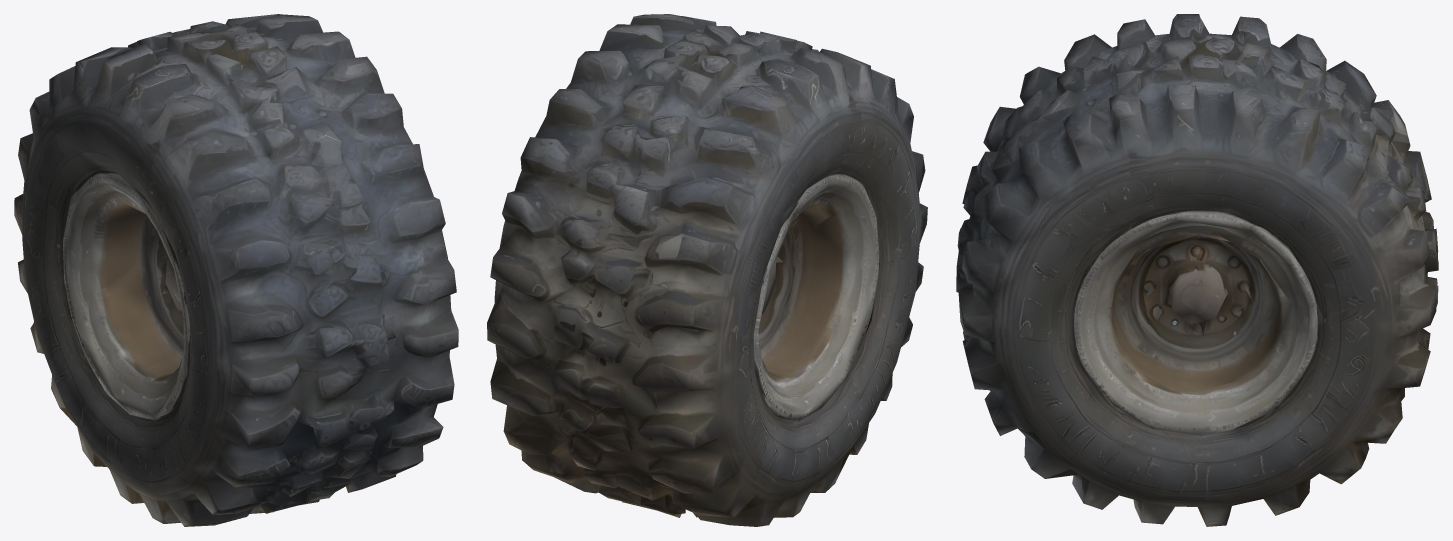
The model's file is wheel.glb.
3 renders of one model, left to right at view 1: azimuth 30°, elevation 25°; view 2: azimuth 150°, elevation 25°; view 3: azimuth 270°, elevation 25°, orthographic. The views are drawn at different scales.
Parts seen in each view (by area): view 1: tripo_node_d4d37f57-9882-4605-be46-f05e44950224; view 2: tripo_node_d4d37f57-9882-4605-be46-f05e44950224; view 3: tripo_node_d4d37f57-9882-4605-be46-f05e44950224.
Boxes of the visible parts, x1=… form: tripo_node_d4d37f57-9882-4605-be46-f05e44950224: x1=14, y1=14, x2=458, y2=526; tripo_node_d4d37f57-9882-4605-be46-f05e44950224: x1=487, y1=14, x2=927, y2=526; tripo_node_d4d37f57-9882-4605-be46-f05e44950224: x1=956, y1=14, x2=1438, y2=526.
Size of the model in its own units: 0.5682 by 0.9944 by 0.9998.
1 material, 1 textured.
